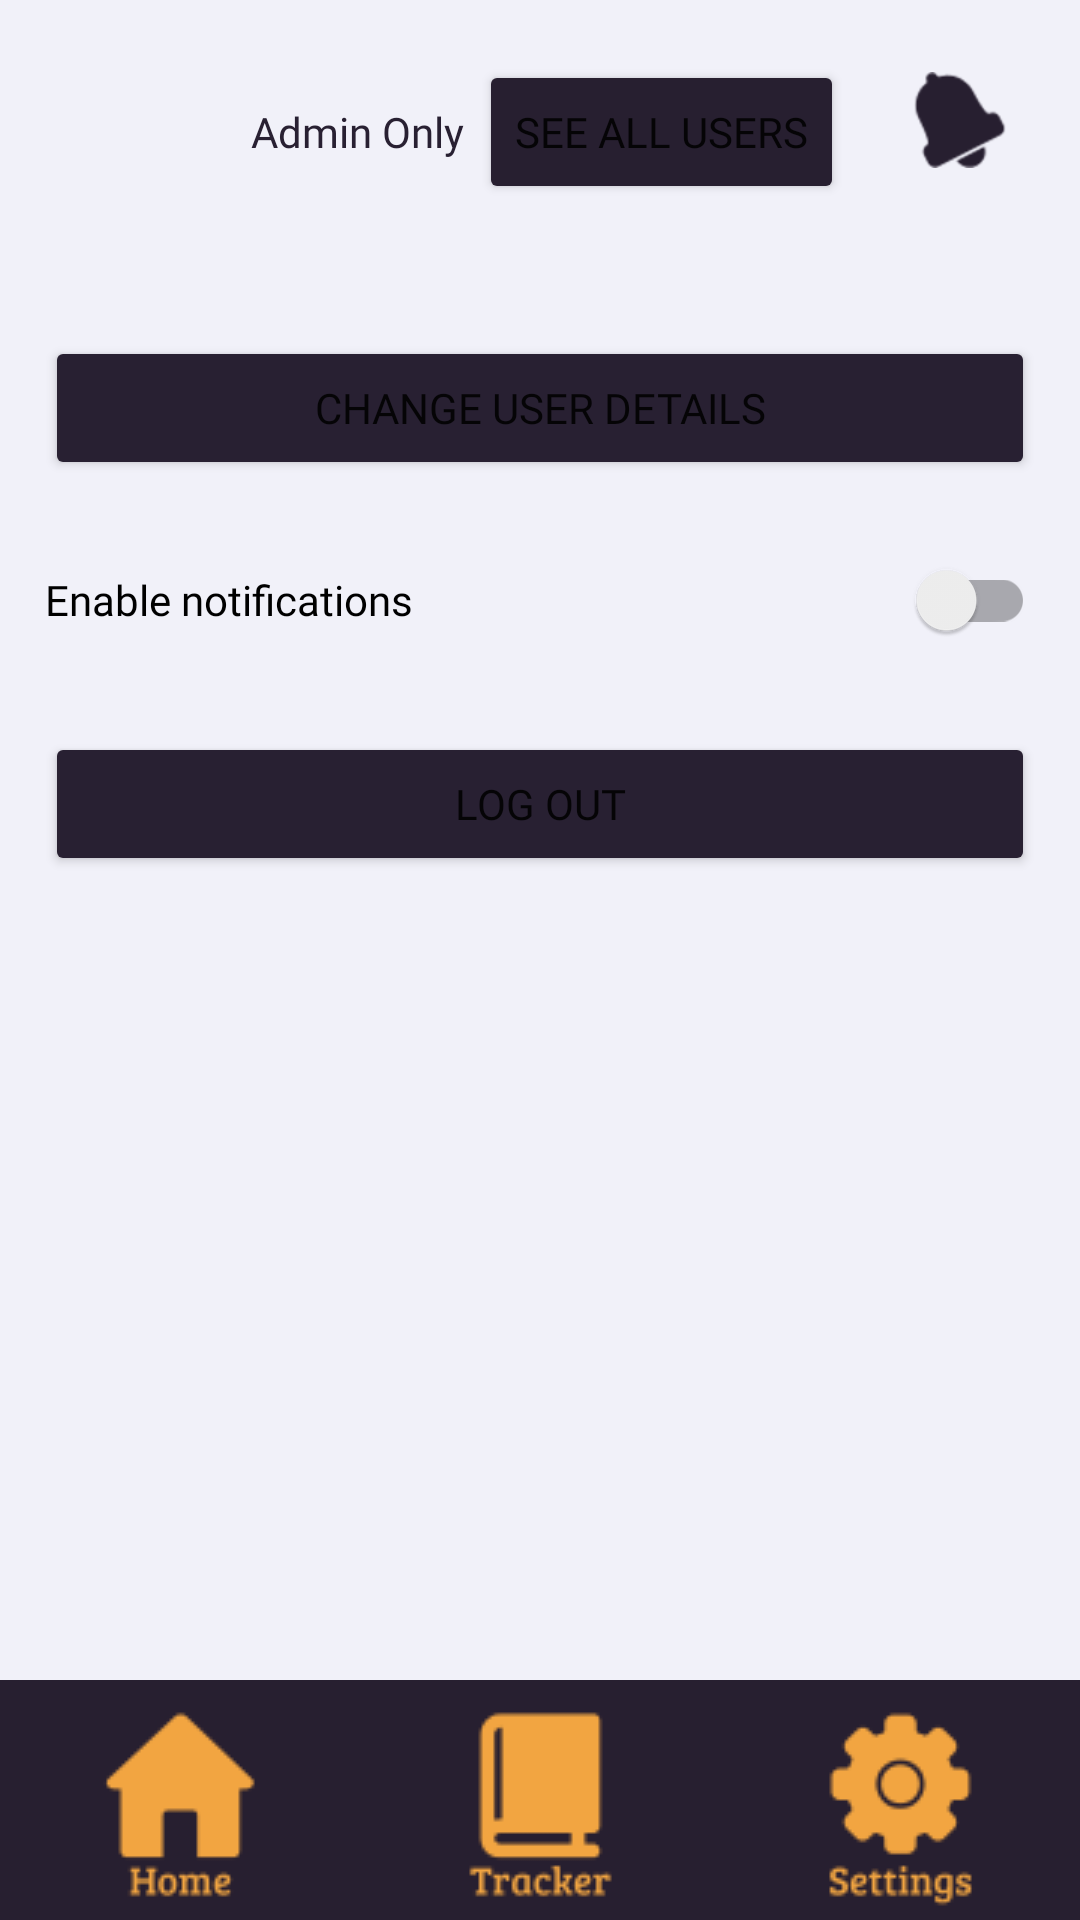

Icons on this 1080w x 1920h Android screen, each with the point to tap as (x,y):
Notifications: (960,120)
